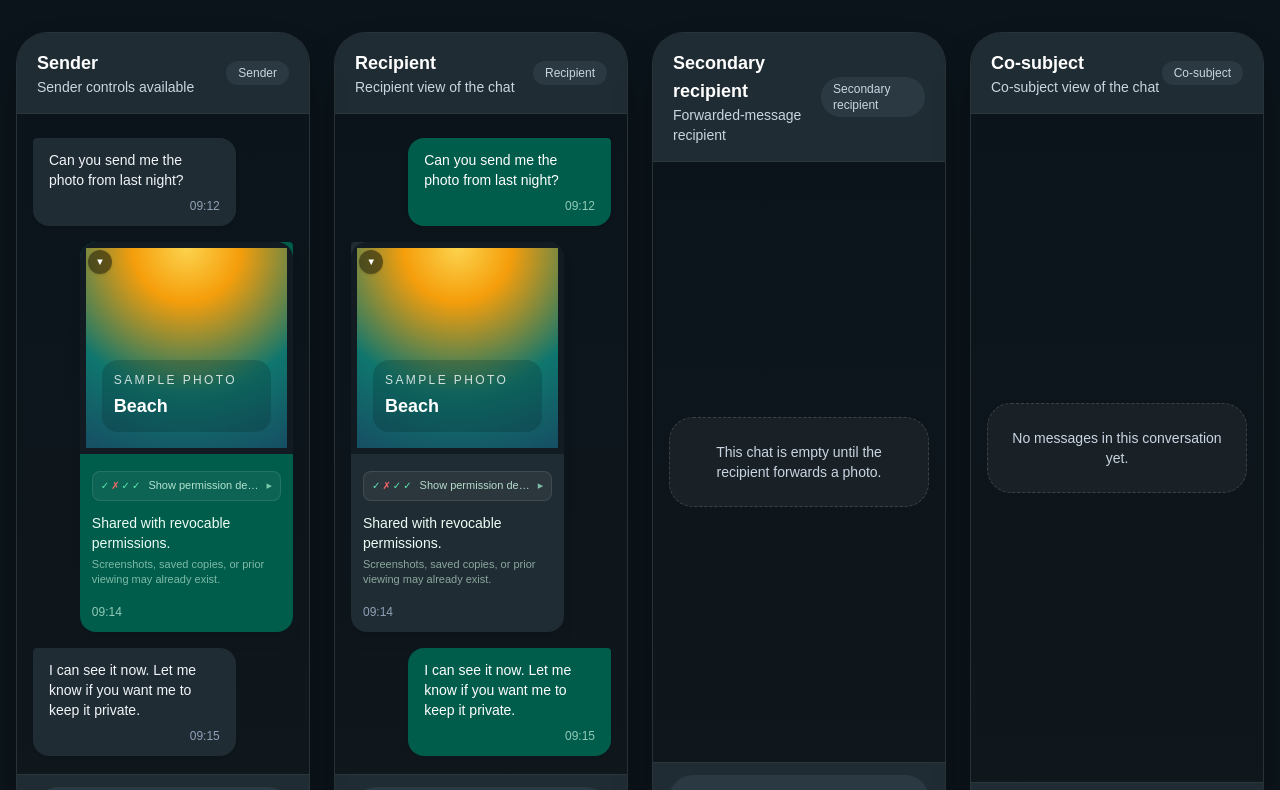
Test: PhotoRevocationDemo › closes the time limit modal on Cancel without applying an expiry
Expected: the text "Sender controls available" is shown, [37, 79, 194, 95]
Click the button named "Open photo options" at coordinates (100, 262), box [88, 250, 112, 274]
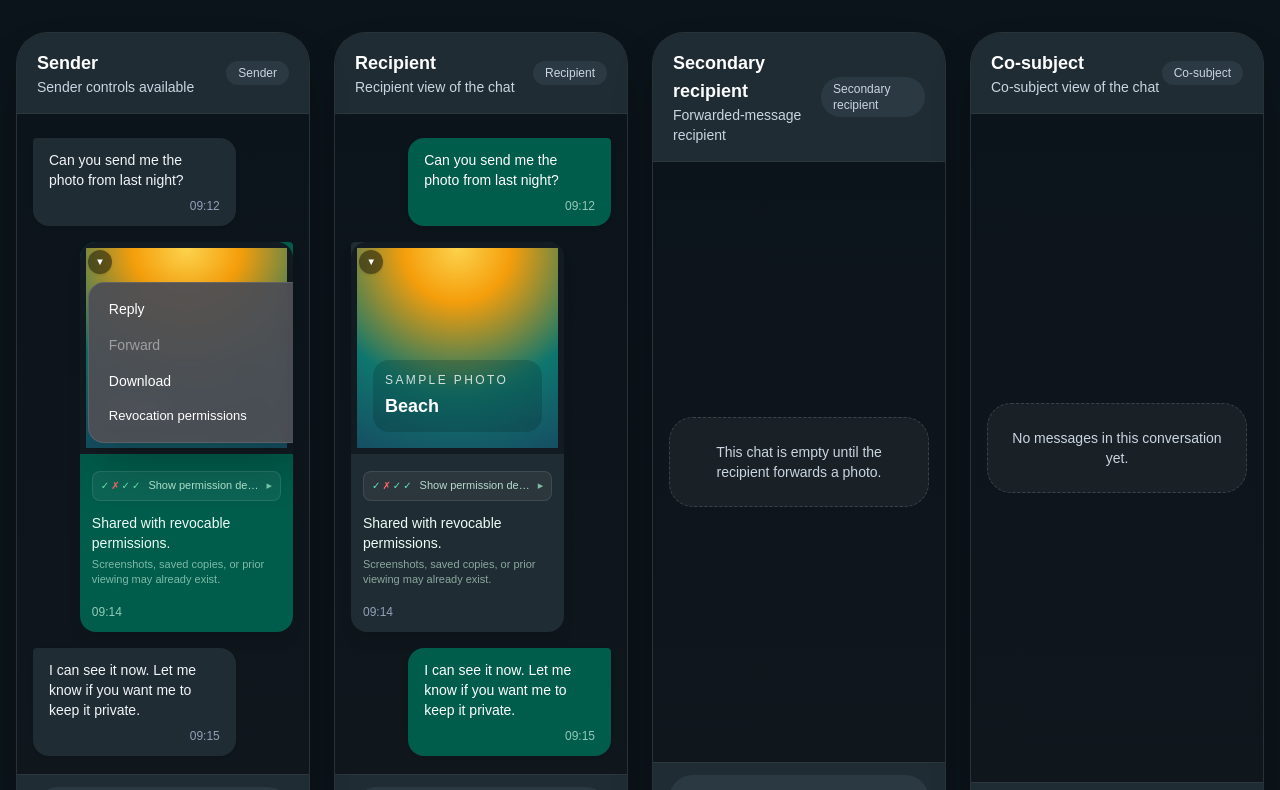
Click the button "Revocation permissions" at coordinates (200, 416), box [97, 399, 303, 434]
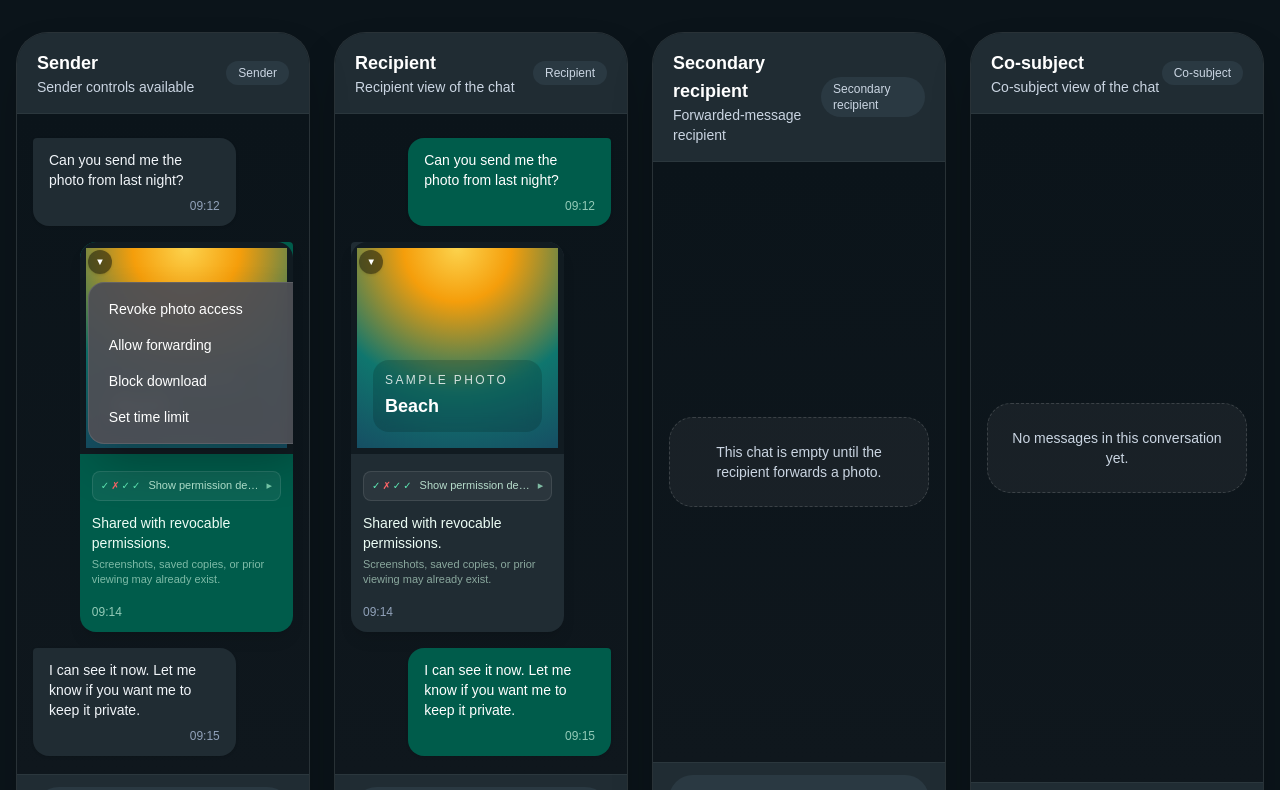
Click the button "Set time limit" at coordinates (200, 417), box [97, 399, 303, 435]
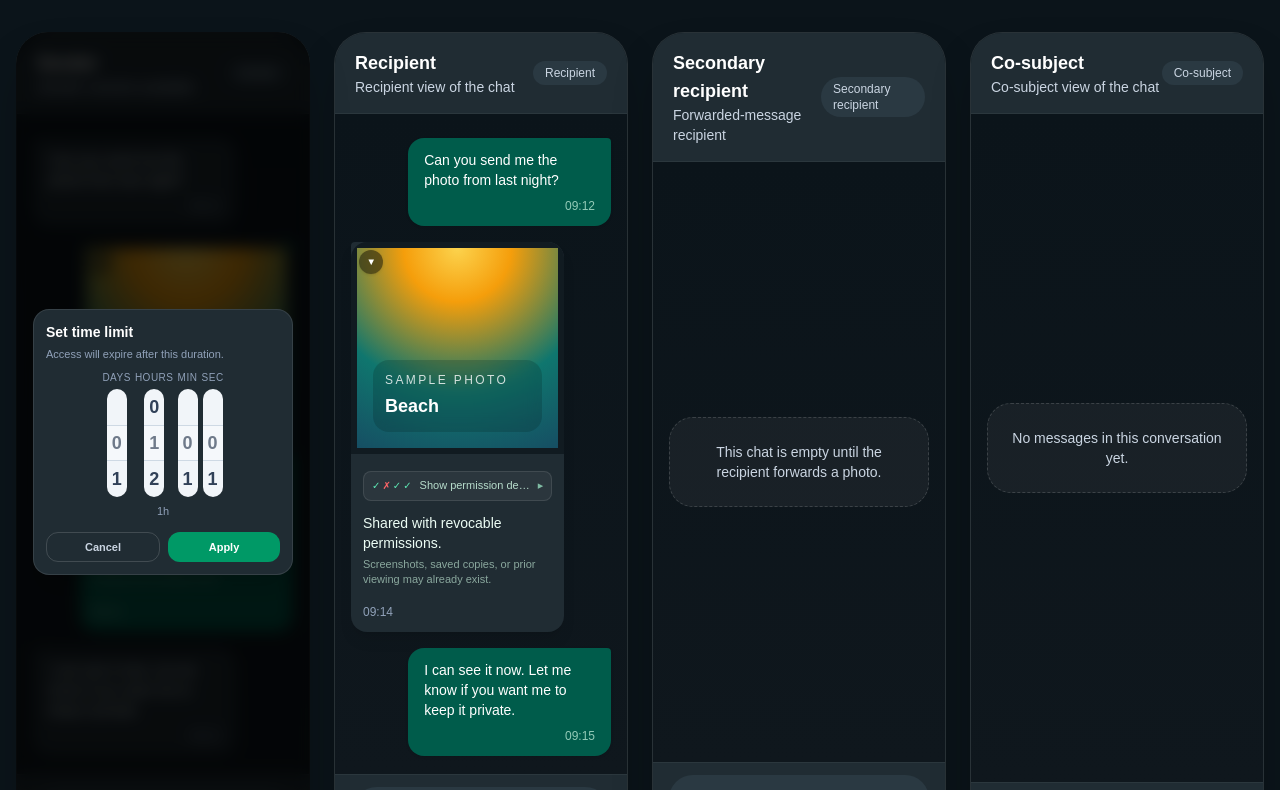
Click the button "Cancel" at coordinates (103, 547), box [46, 532, 160, 562]
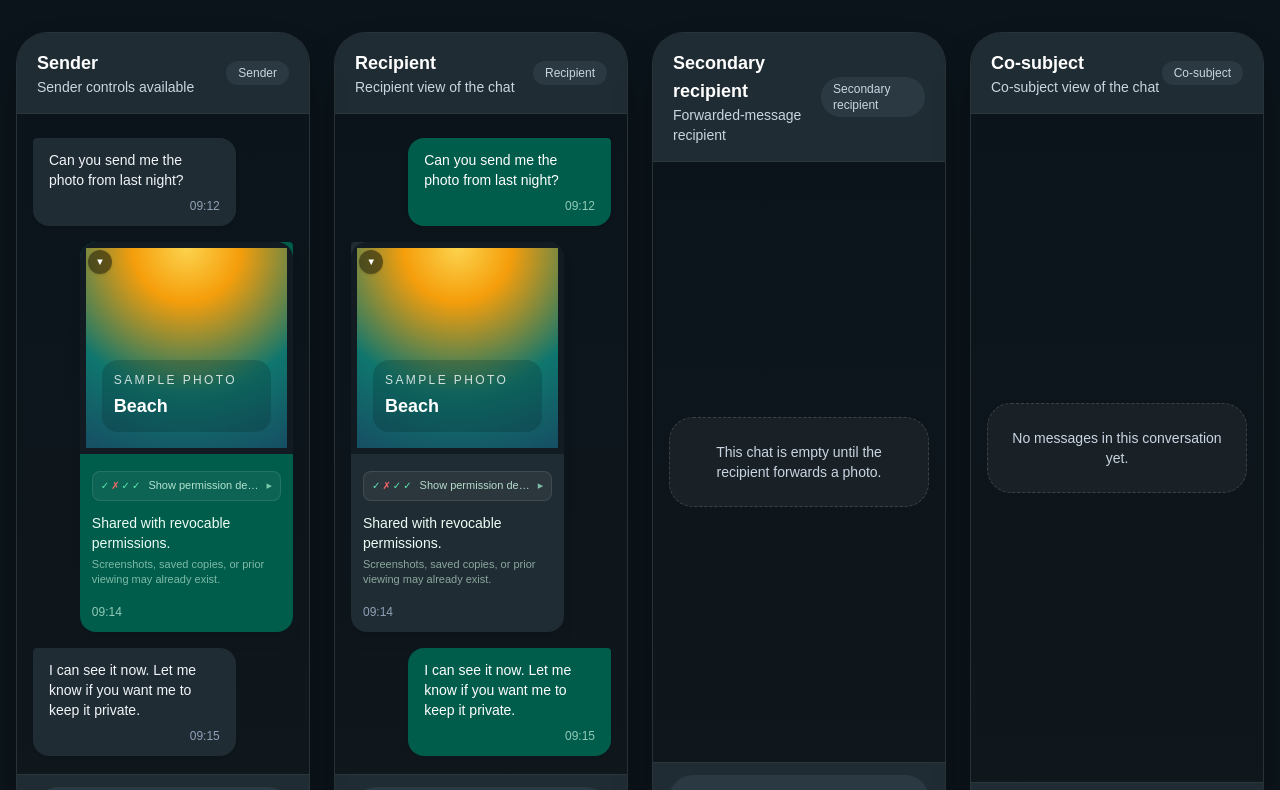
Expected: the heading "Set time limit" is gone
